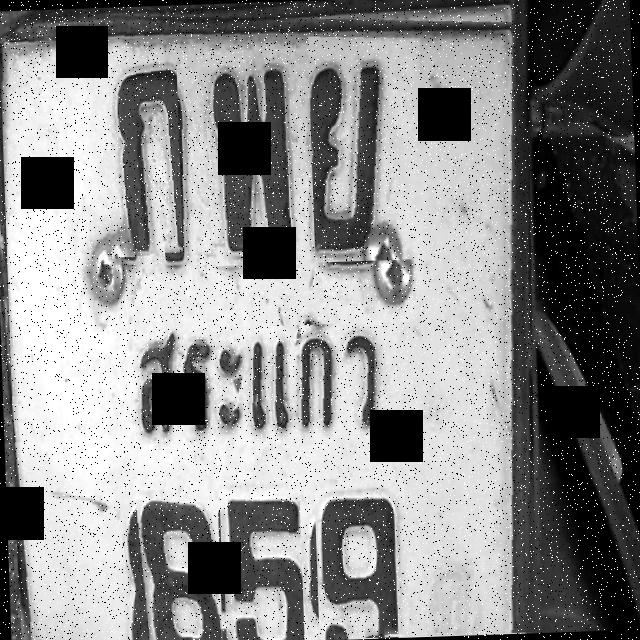letters: (307, 32, 428, 262), (204, 48, 302, 266), (96, 60, 183, 259), (314, 475, 410, 640), (217, 476, 304, 640), (135, 496, 222, 640)
license-plate: (0, 16, 528, 640)
province: (86, 321, 428, 481)
